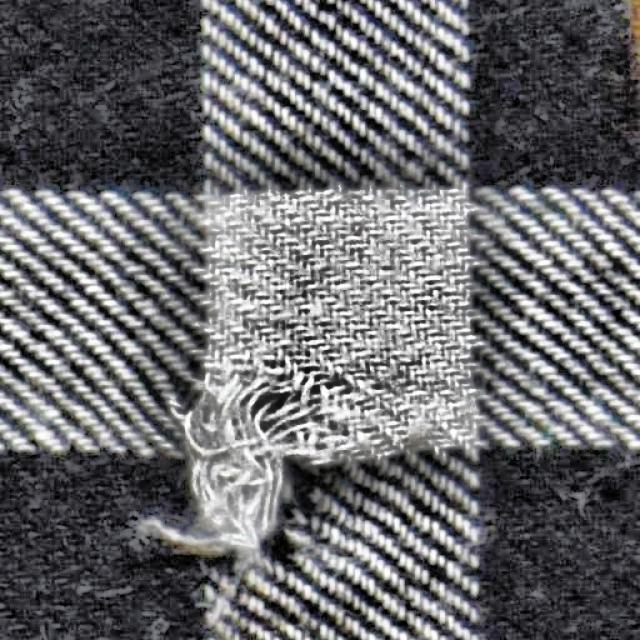Stitch: (156, 332, 370, 608)
